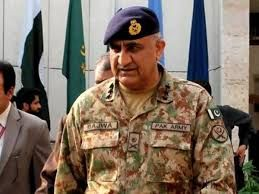uniform: (56, 68, 241, 192)
